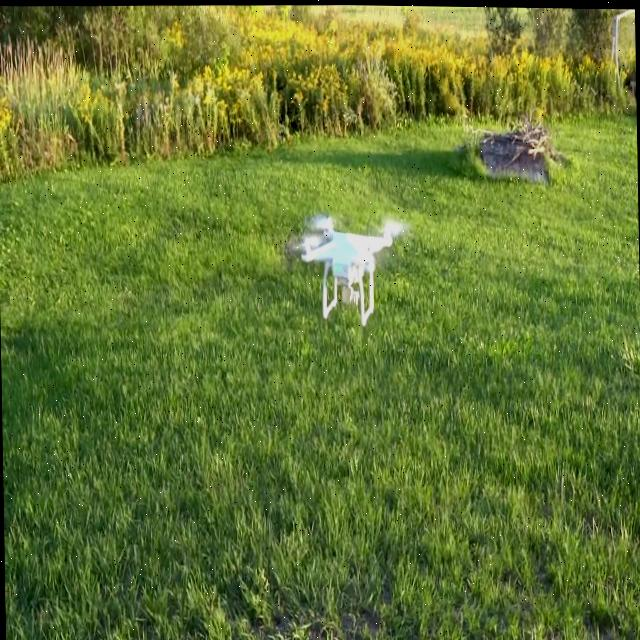drone: (292, 204, 404, 329)
